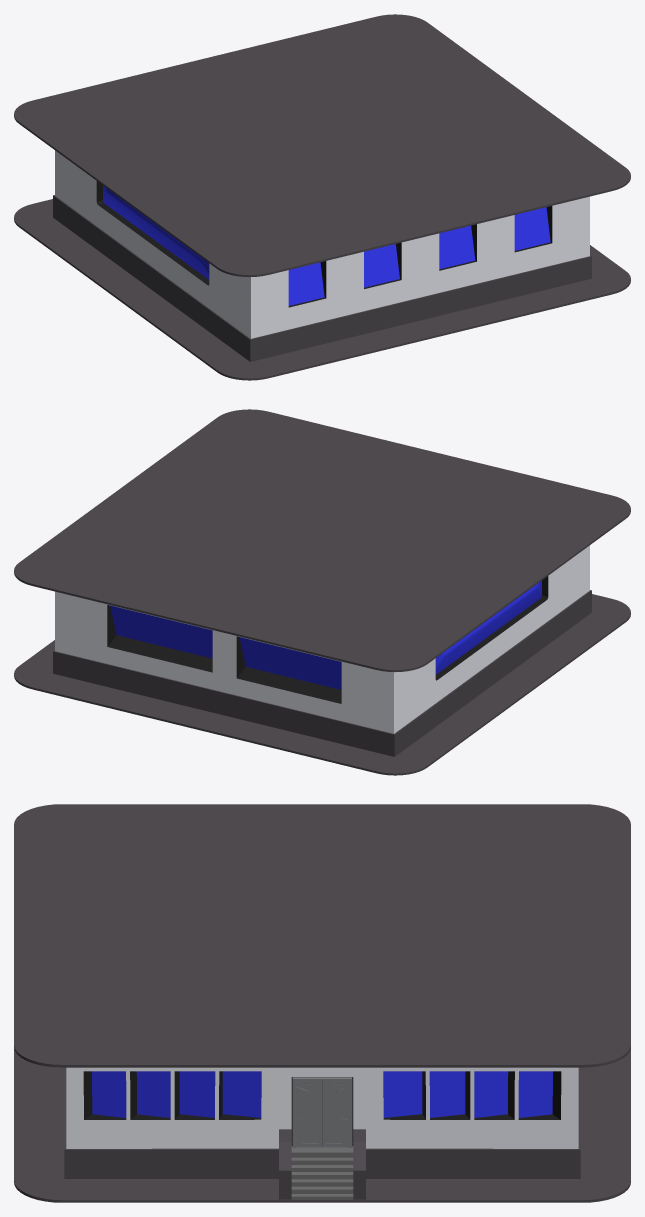
The picture shows the model from 3 angles, top to bottom: view 1: azimuth 30°, elevation 25°; view 2: azimuth 150°, elevation 25°; view 3: azimuth 270°, elevation 25°; orthographic projection. The views are drawn at different scales.
Visible parts, largest first — view 1: SM_B_i8_Base; view 2: SM_B_i8_Base; view 3: SM_B_i8_Base.
Boxes of the visible parts, x1,y1,x2,y2 form: SM_B_i8_Base: [14, 14, 630, 380]; SM_B_i8_Base: [14, 409, 630, 775]; SM_B_i8_Base: [14, 804, 630, 1202].
Bounding box in the file's own units: 2100 × 518 × 2100.
